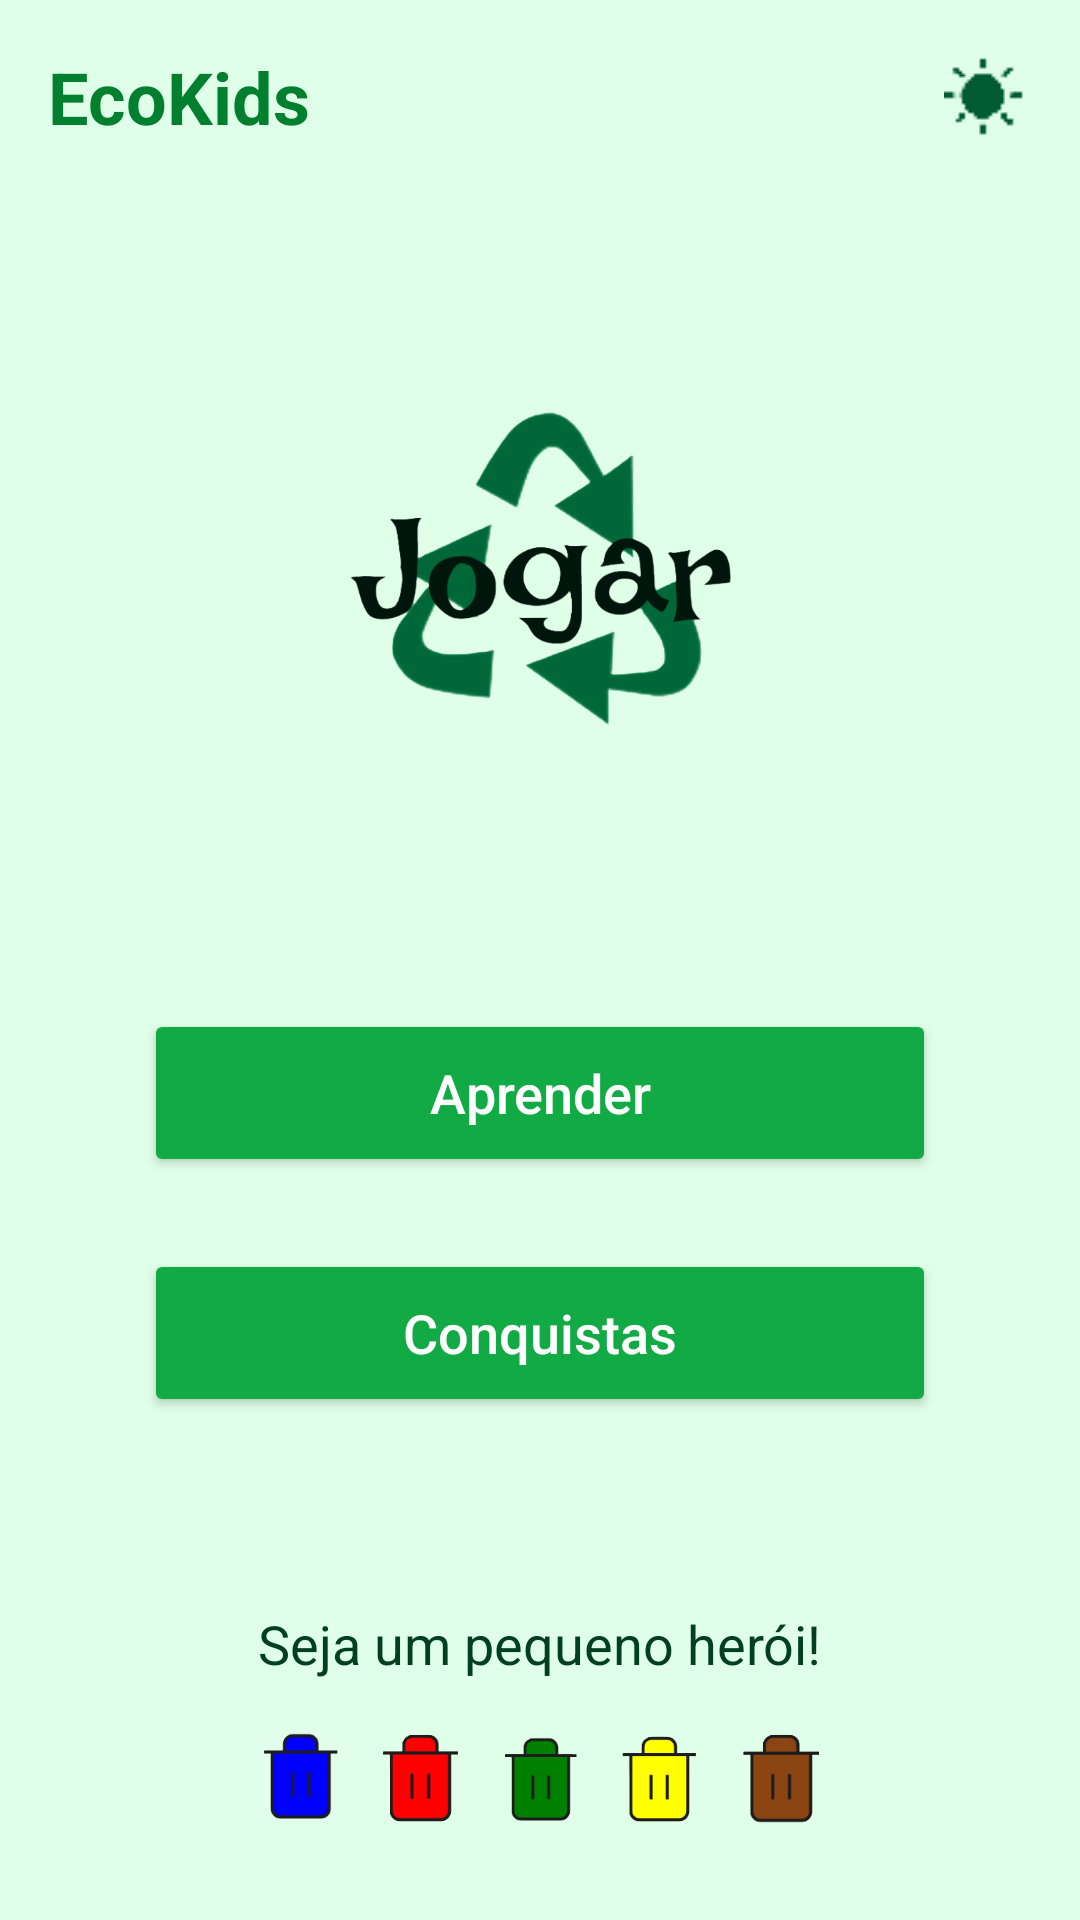

Locate icon controls on the screen. Image size 1080 x 1920, boxes as (x1, y1, x2, y2).
mode: (944, 58, 1023, 135)
trash: (264, 1734, 338, 1819), (383, 1735, 458, 1822), (622, 1736, 696, 1822), (505, 1738, 577, 1821)
trash brown: (743, 1735, 819, 1823)
